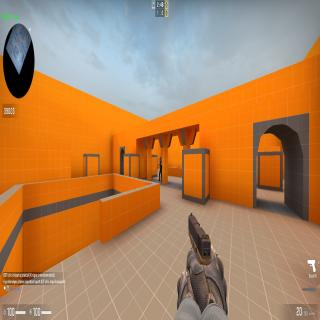T-Body: (159, 156, 162, 182)
T-Head: (160, 156, 161, 161)
